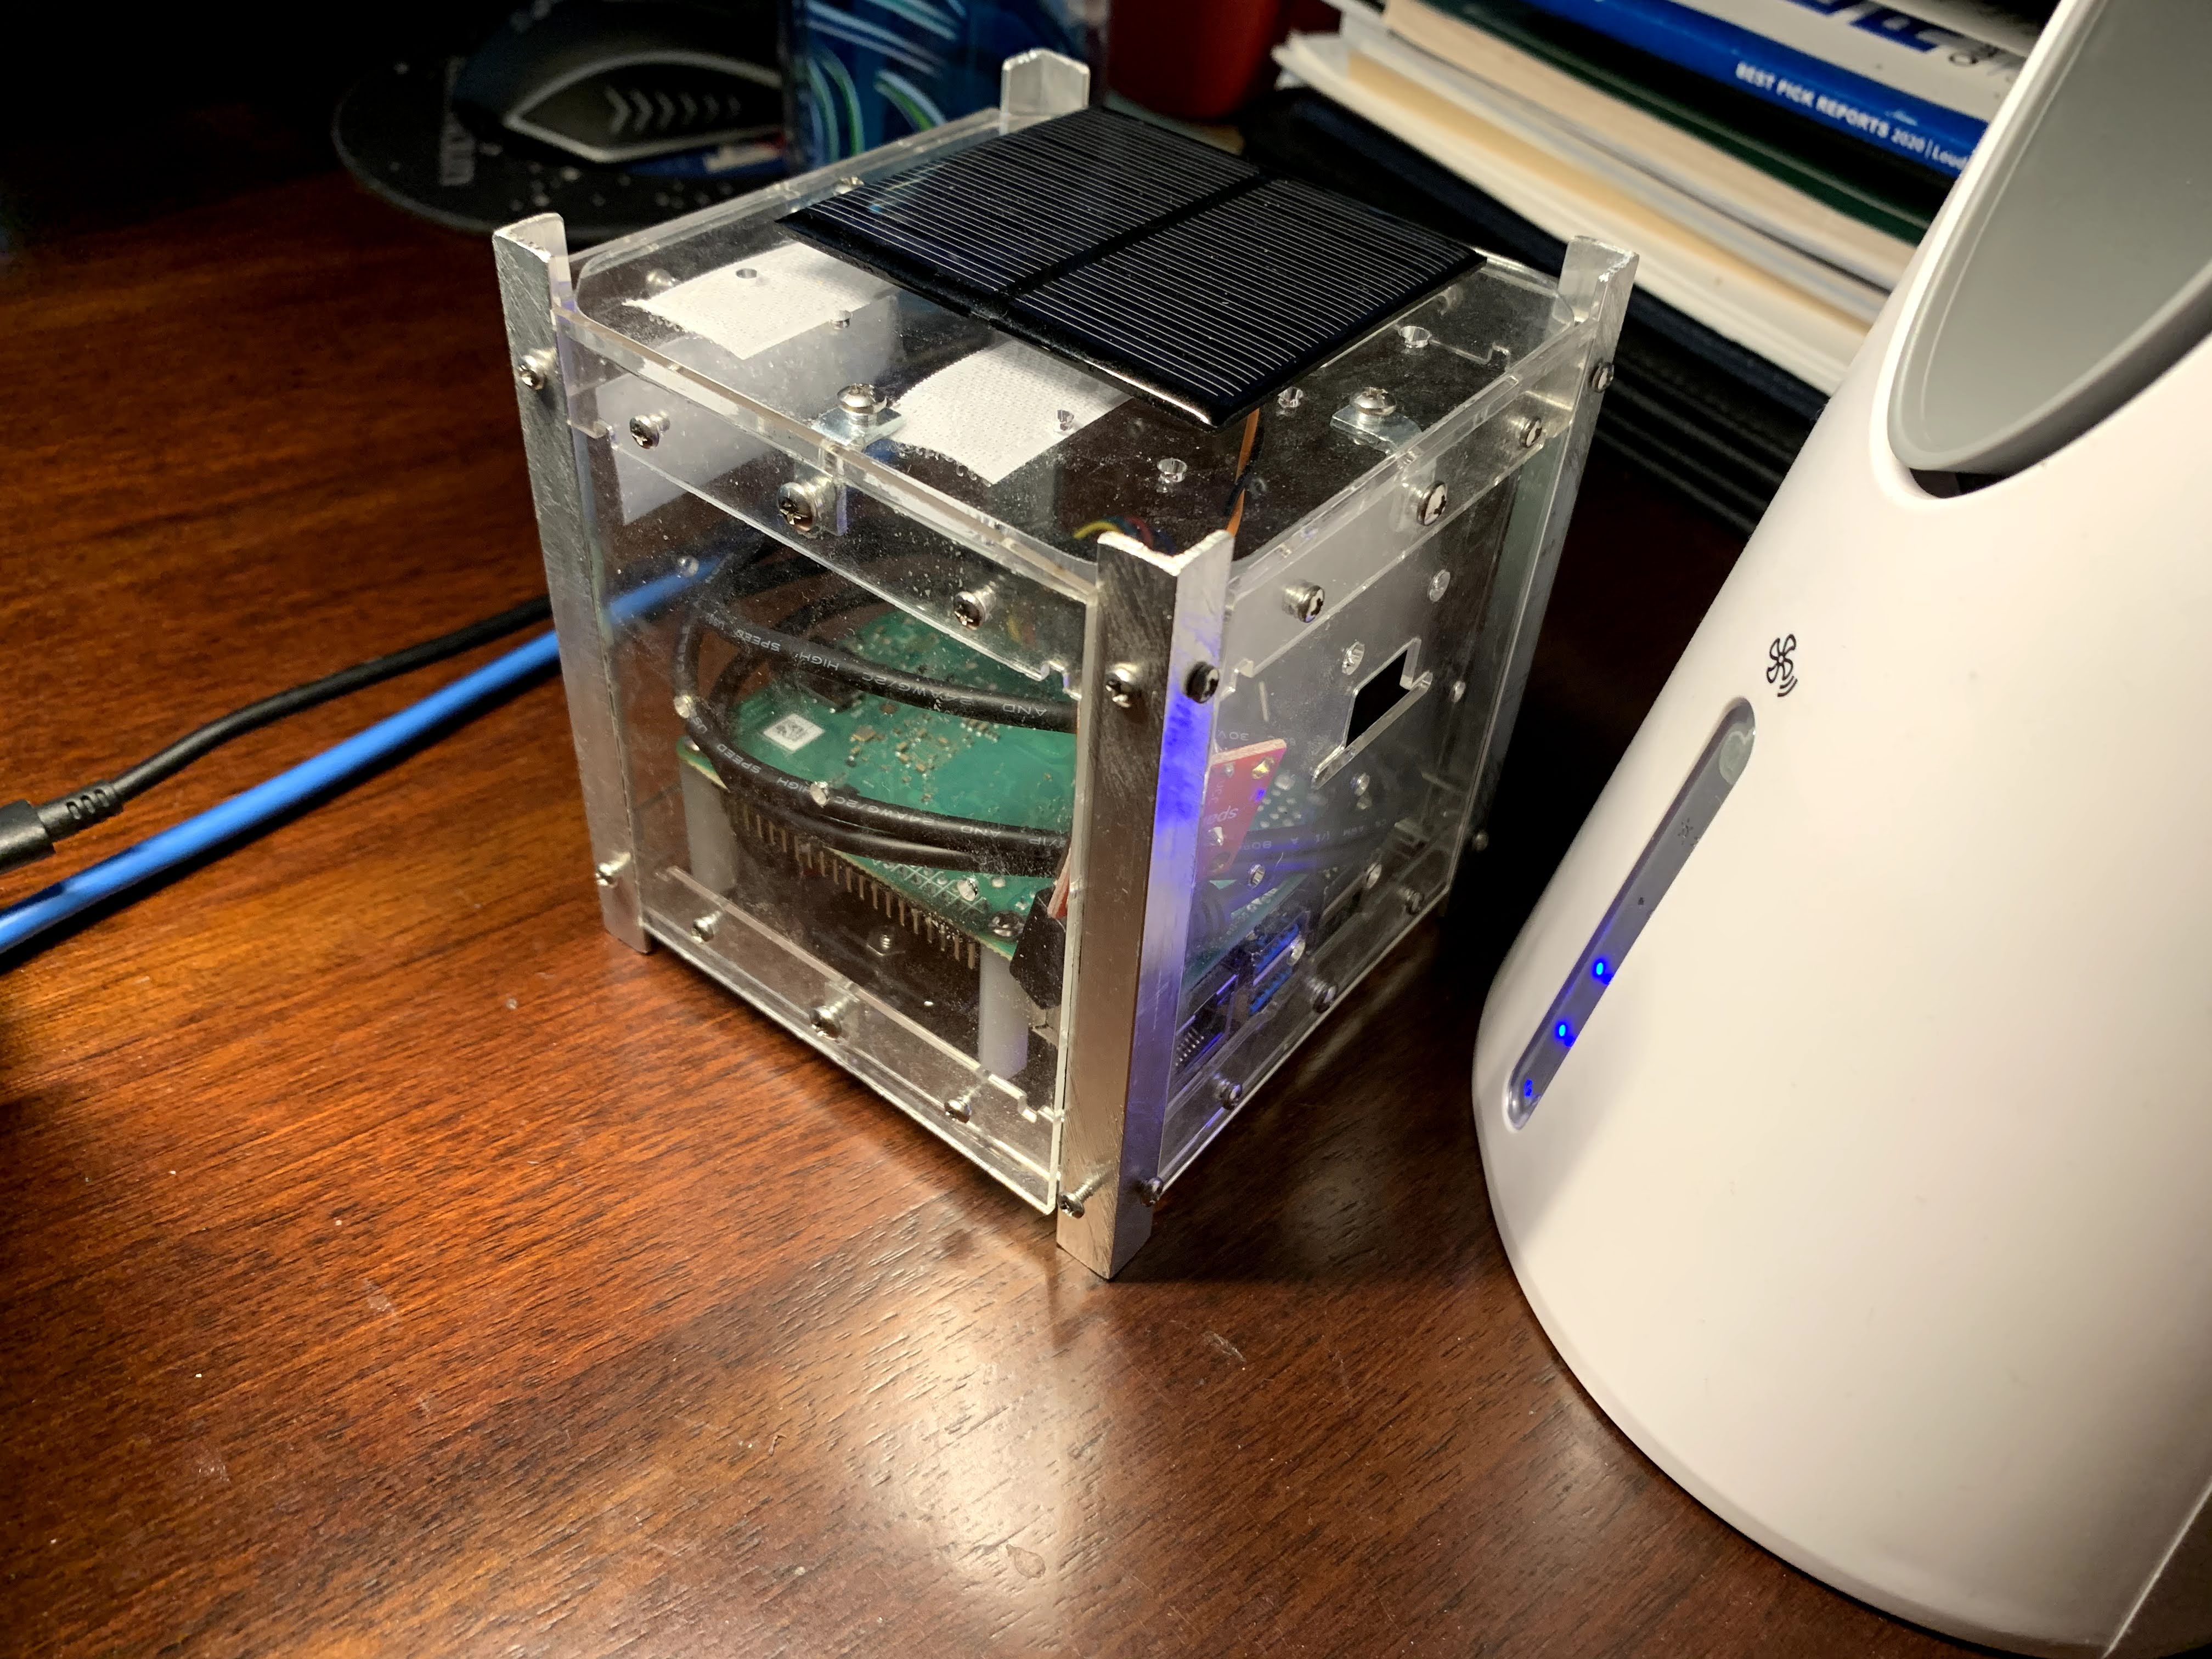Space-debris-cubesat: (442, 37, 1691, 1307)
